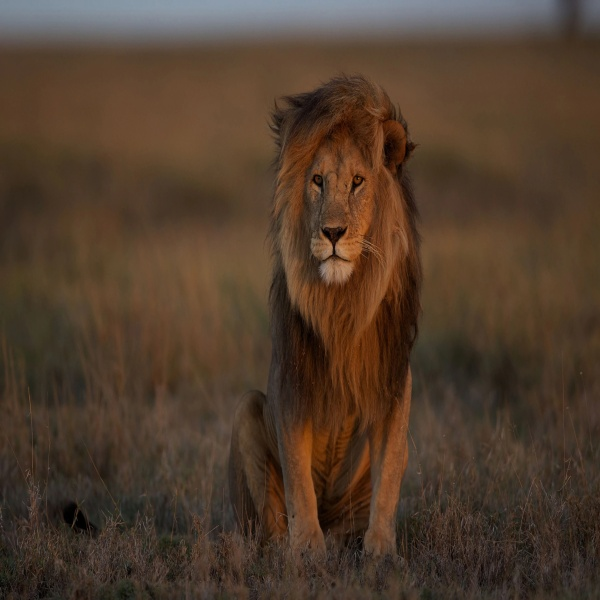Lion: (225, 67, 428, 584)
